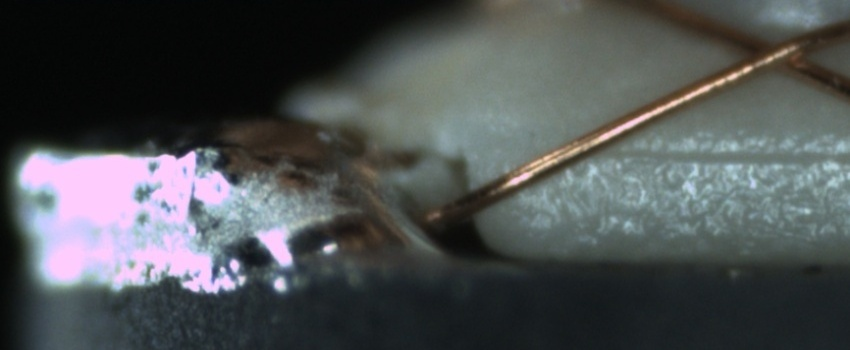CL: (724, 21, 826, 80)
DL: (574, 123, 844, 186)
